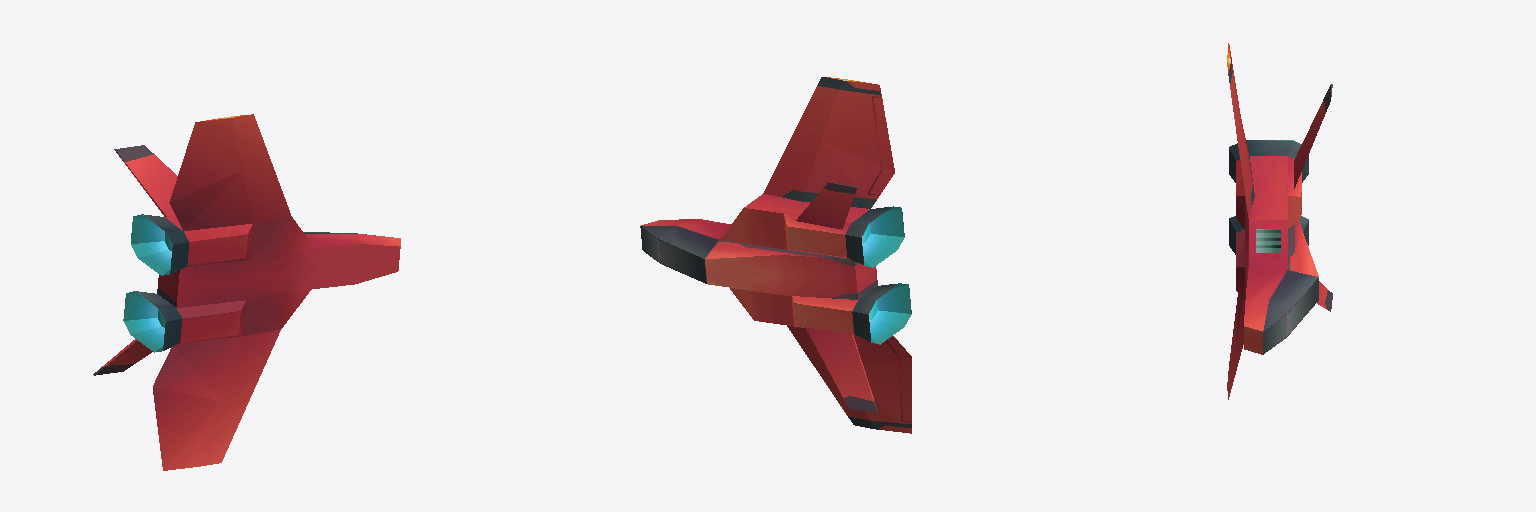
The picture shows the model from 3 angles: view 1: azimuth 30°, elevation 25°; view 2: azimuth 150°, elevation 25°; view 3: azimuth 270°, elevation 25°; orthographic projection.
Visible parts, largest first — view 1: ship_Cube.001; view 2: ship_Cube.001; view 3: ship_Cube.001.
Part boxes in pixels (left/top/right/bottom): ship_Cube.001: left=93, top=114, right=400, bottom=470; ship_Cube.001: left=640, top=77, right=911, bottom=433; ship_Cube.001: left=1227, top=43, right=1332, bottom=399.
Size of the model in its own units: 4.02 by 4.89 by 1.36.
Materials: 1 (1 with a texture image).